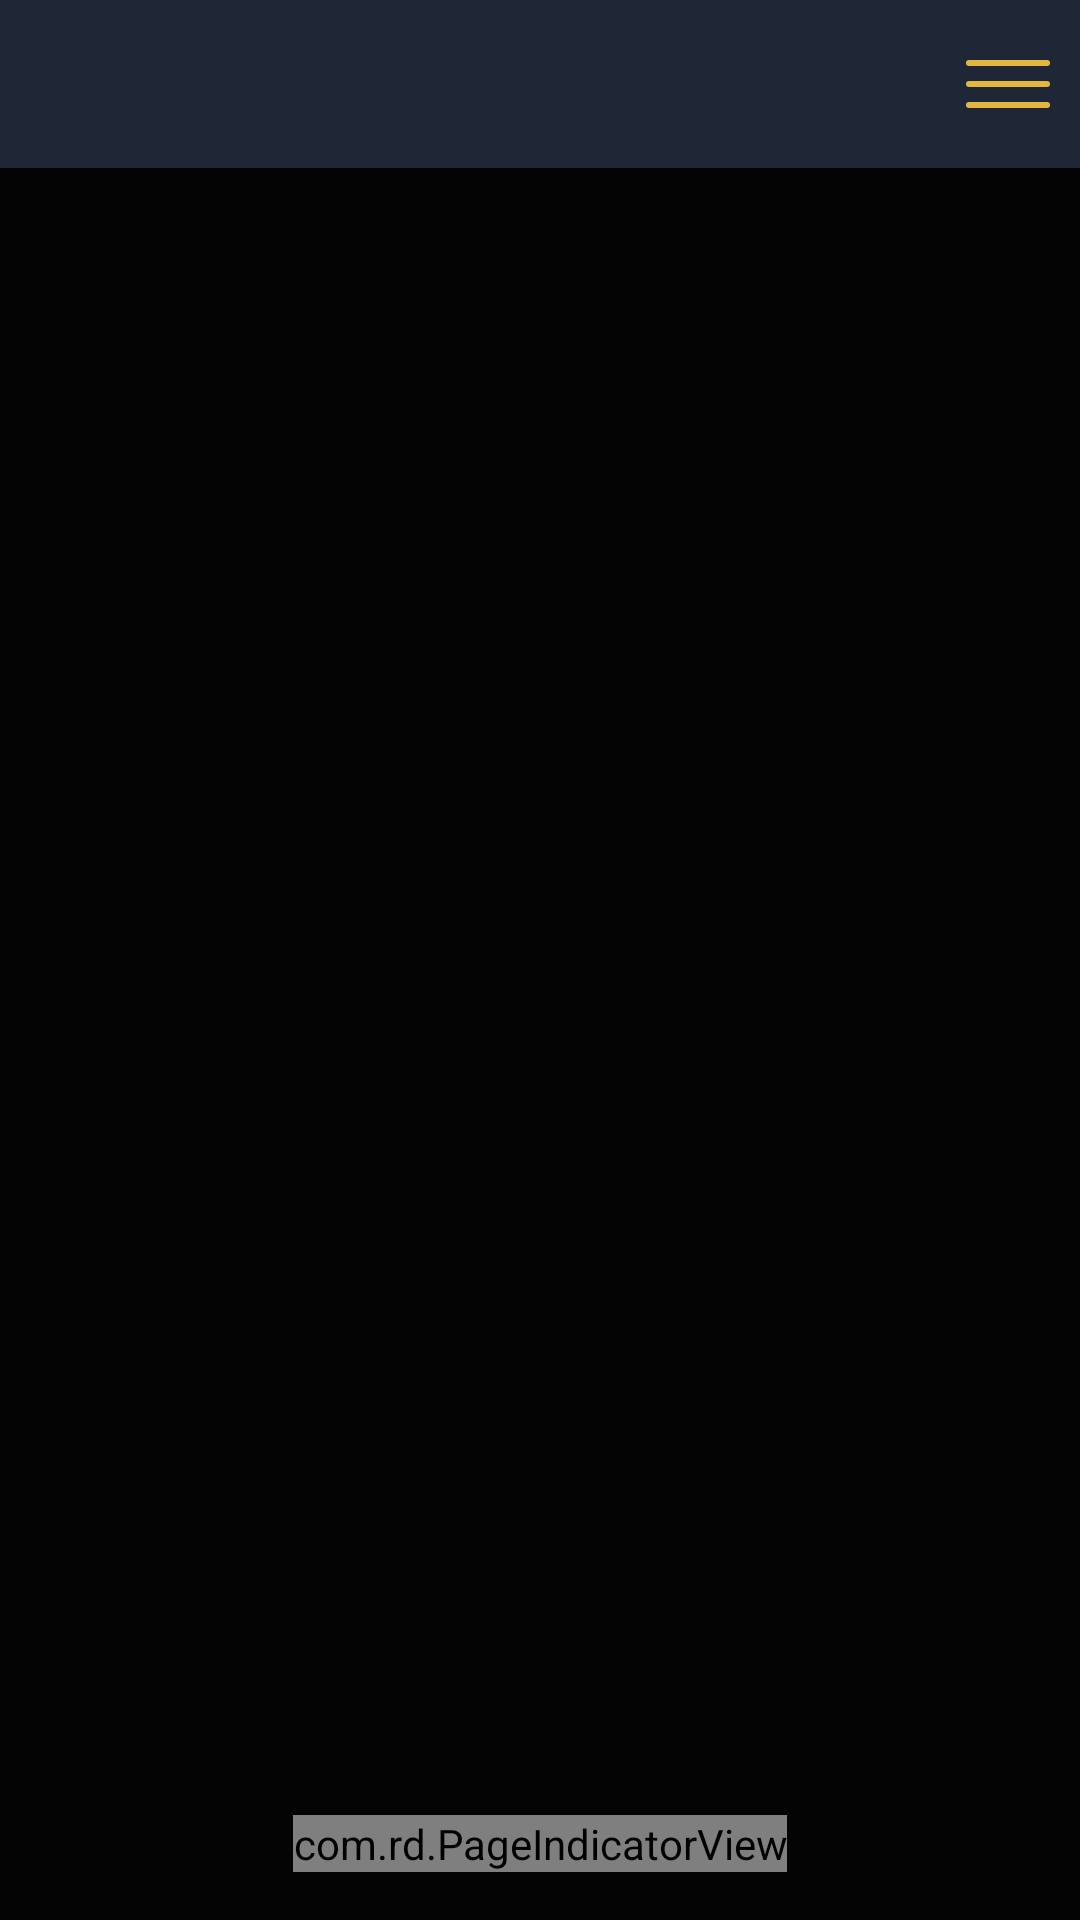

Named icons in this screenshot (1080x1920) and their centers, (x=x, y=y):
menu: (x=1008, y=84)
